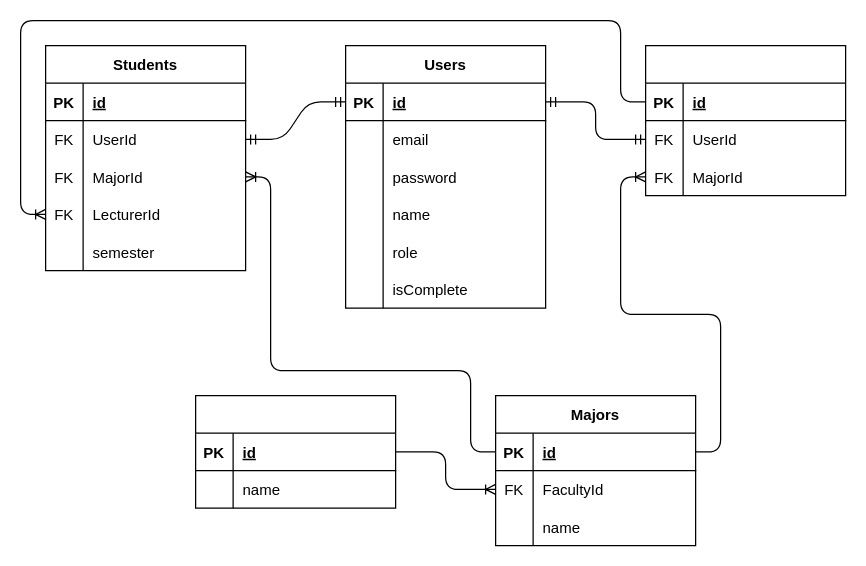
This 866x566 diagram has some shape labels left out. Each missing label, with the box of its shape:
Faculties: (194, 394, 396, 508)
Lecturers: (644, 44, 846, 196)
